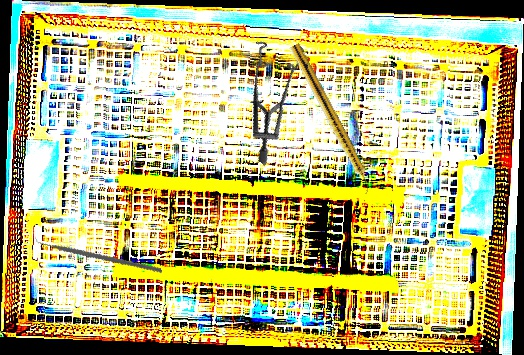Chopper: (32, 195, 163, 309)
Handpiece: (286, 42, 377, 196)
Speculum: (198, 22, 341, 167)
